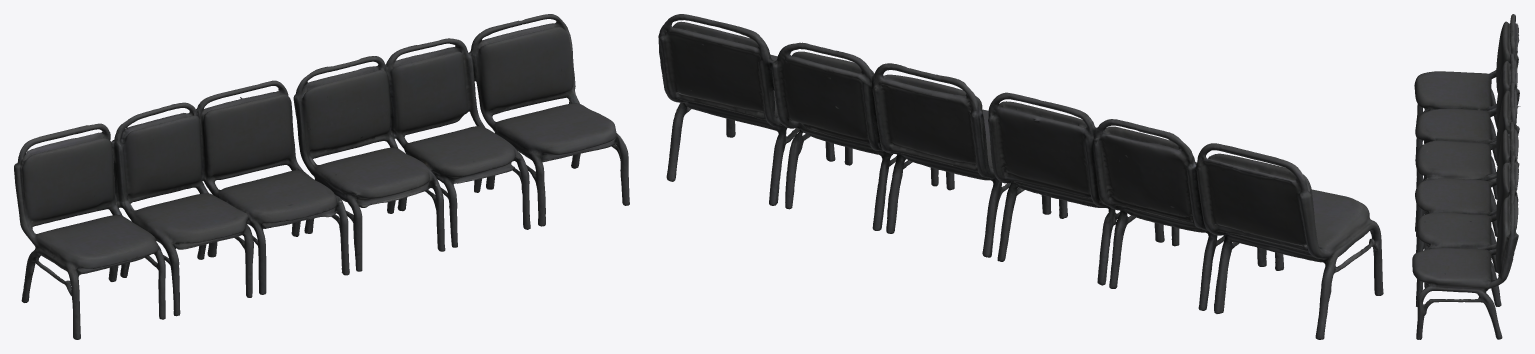
File: Meshy_AI_Row_of_Black_Padded_C_0602055548_texture.fbx
3 views of the same model, side by side, from view 1: azimuth 30°, elevation 25°; view 2: azimuth 150°, elevation 25°; view 3: azimuth 270°, elevation 25° (orthographic). The views are drawn at different scales.
Parts seen in each view (by area): view 1: Mesh_0; view 2: Mesh_0; view 3: Mesh_0.
Part boxes in pixels (x1=…): Mesh_0: x1=14, y1=14, x2=629, y2=339; Mesh_0: x1=658, y1=14, x2=1383, y2=339; Mesh_0: x1=1412, y1=14, x2=1520, y2=339.
Size of the model in its own units: 200 by 52.63 by 42.89.
1 material, 1 textured.
